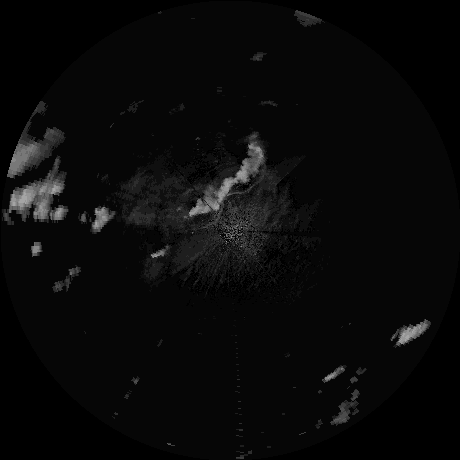frontgust: (227, 167, 266, 200), (195, 203, 225, 231)
